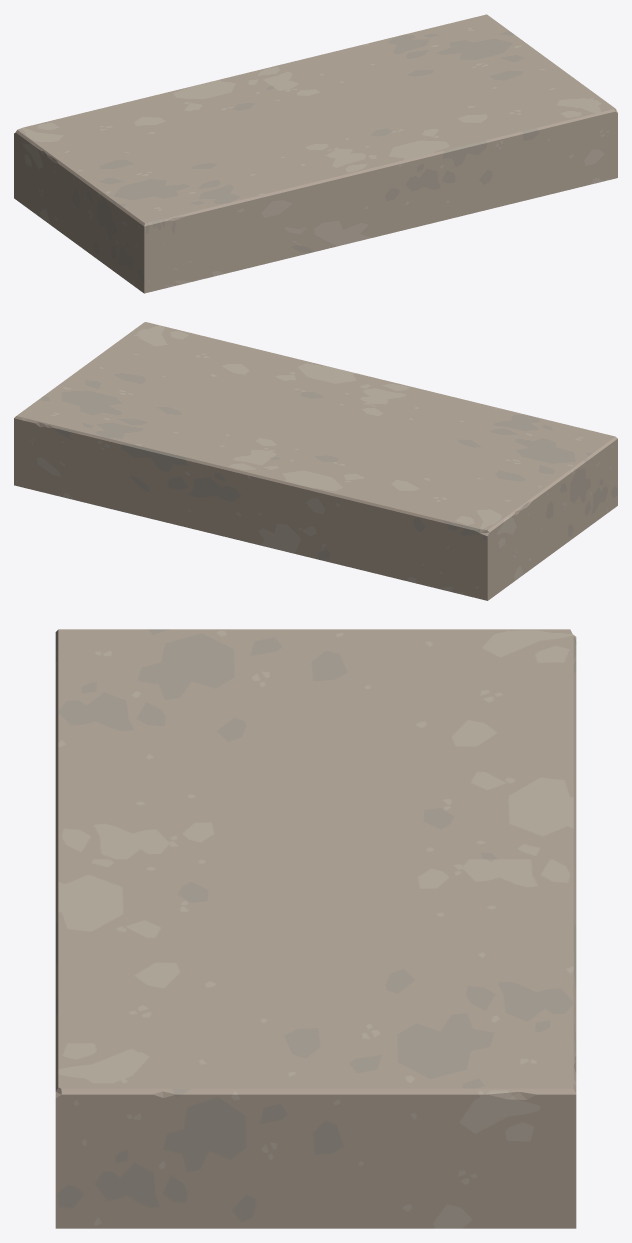
The model's file is SM_Bld_Plinth_02.glb.
3 renders of one model, top to bottom at view 1: azimuth 30°, elevation 25°; view 2: azimuth 150°, elevation 25°; view 3: azimuth 270°, elevation 25°, orthographic. The views are drawn at different scales.
Visible parts, largest first — view 1: SM_Bld_Plinth_02; view 2: SM_Bld_Plinth_02; view 3: SM_Bld_Plinth_02.
Part boxes in pixels (x1,y1,x2,y2): SM_Bld_Plinth_02: [14, 14, 617, 293]; SM_Bld_Plinth_02: [14, 322, 617, 600]; SM_Bld_Plinth_02: [55, 629, 576, 1228].
Bounding box in the file's own units: 21.48 × 3 × 10.22.
1 material, 1 textured.
